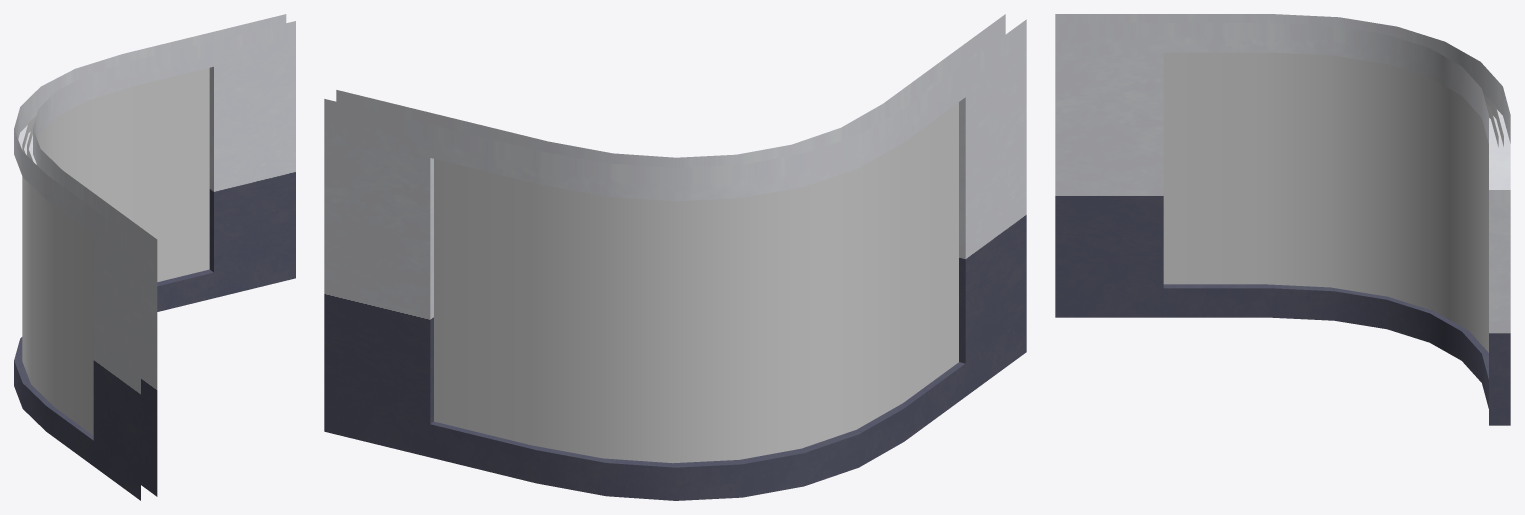
File: Modular_Wall_Window_Curve.fbx
3 renders of one model, left to right at view 1: azimuth 30°, elevation 25°; view 2: azimuth 150°, elevation 25°; view 3: azimuth 270°, elevation 25°, orthographic. The views are drawn at different scales.
Parts seen in each view (by area): view 1: Modular_Wall_Window_Curve, Window.001; view 2: Window.001, Modular_Wall_Window_Curve; view 3: Window.001, Modular_Wall_Window_Curve.
Boxes of the visible parts, x1=… form: Modular_Wall_Window_Curve: x1=14, y1=14, x2=295, y2=500; Window.001: x1=22, y1=68, x2=209, y2=435; Window.001: x1=434, y1=102, x2=958, y2=463; Modular_Wall_Window_Curve: x1=324, y1=14, x2=1026, y2=500; Window.001: x1=1163, y1=52, x2=1503, y2=352; Modular_Wall_Window_Curve: x1=1055, y1=14, x2=1510, y2=425.
Bounding box in the file's own units: 4.2 × 3 × 4.2.
